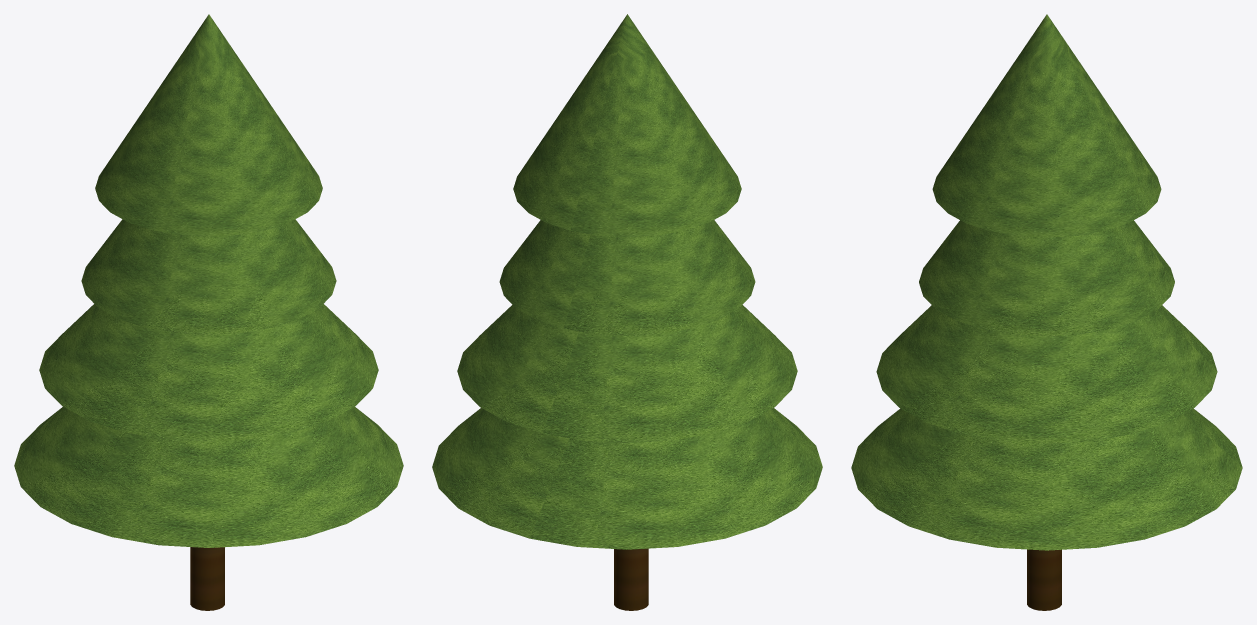
The model's file is Pine.FBX.
3 renders of one model, left to right at view 1: azimuth 30°, elevation 25°; view 2: azimuth 150°, elevation 25°; view 3: azimuth 270°, elevation 25°, orthographic.
Visible parts, largest first — view 1: Cone001, Cone002, Cone004, Cone003, Cylinder001; view 2: Cone001, Cone002, Cone004, Cone003, Cylinder001; view 3: Cone001, Cone002, Cone004, Cone003, Cylinder001.
Boxes of the visible parts, x1,y1,x2,y2 form: Cone001: (14,406,403,547); Cone002: (39,304,378,441); Cone004: (95,14,322,236); Cone003: (81,219,336,334); Cylinder001: (190,547,224,610); Cone001: (432,408,822,549); Cone002: (457,305,797,443); Cone004: (513,14,741,237); Cone003: (499,220,755,335); Cylinder001: (614,548,648,610); Cone001: (851,408,1242,550); Cone002: (876,305,1217,443); Cone004: (932,14,1161,237); Cone003: (919,220,1174,336); Cylinder001: (1027,549,1061,610).
Bounding box in the file's own units: 23.89 × 39.78 × 23.89.
2 materials, 2 textured.
